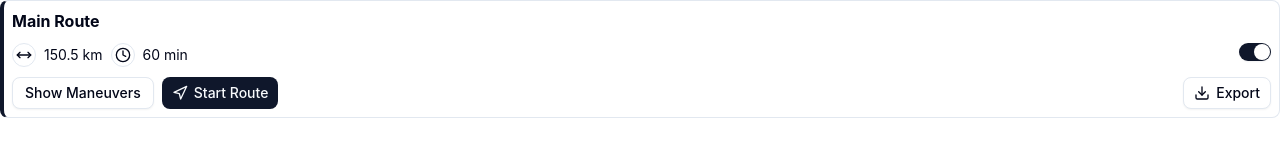
Test: RouteCard › should hide maneuvers when Hide Maneuvers is clicked
Click the button "Show Maneuvers" at (83, 93), box [12, 77, 154, 109]
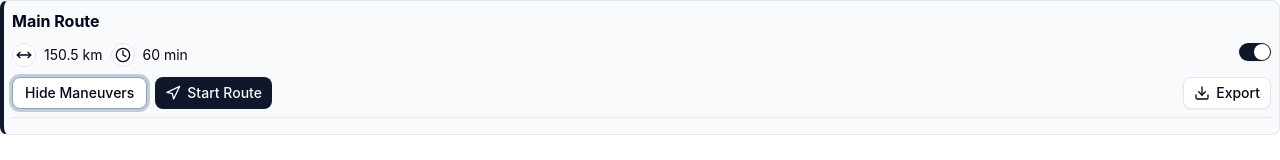
Click the button "Hide Maneuvers" at (80, 93), box [12, 77, 147, 109]
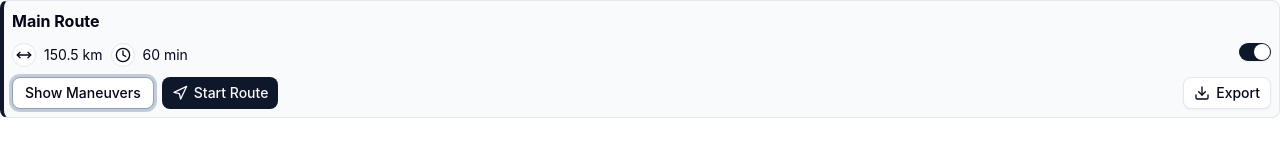
Expected: the button "Show Maneuvers" is shown, [12, 77, 154, 109]
